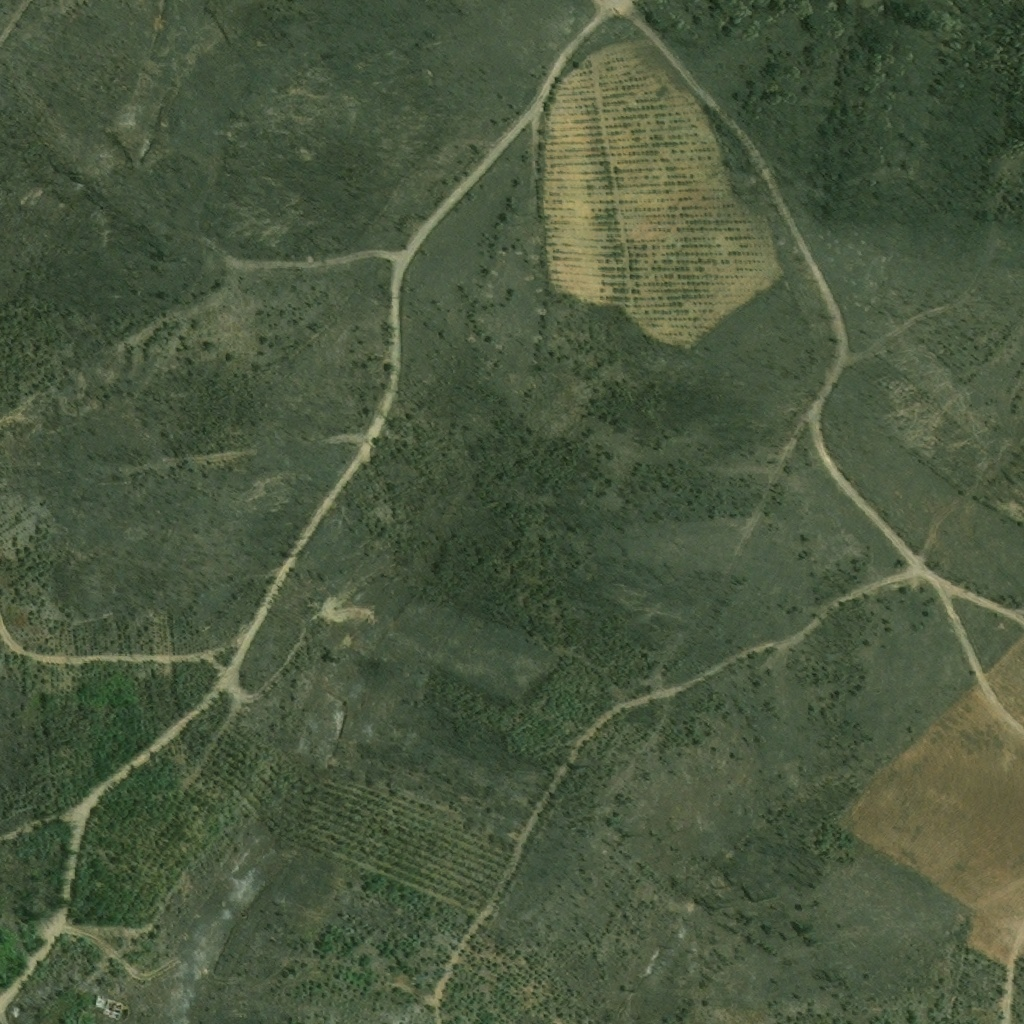3 destroyed: (94, 995, 129, 1022), (64, 1009, 85, 1023)
